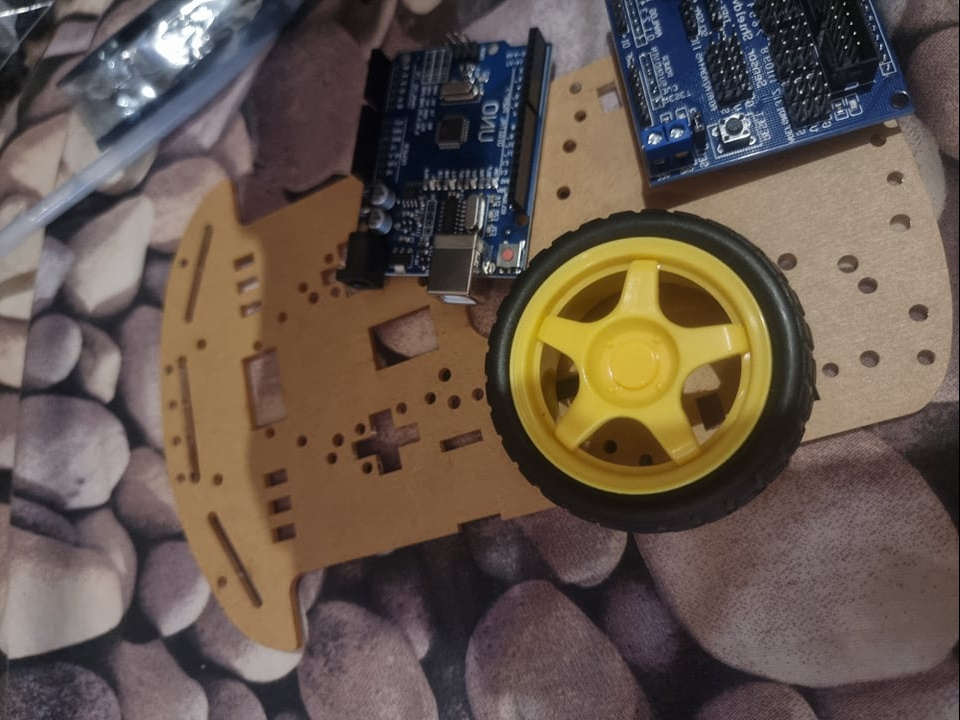5V EXPANSION: (604, 1, 923, 195)
UNO R3: (342, 28, 556, 299)
